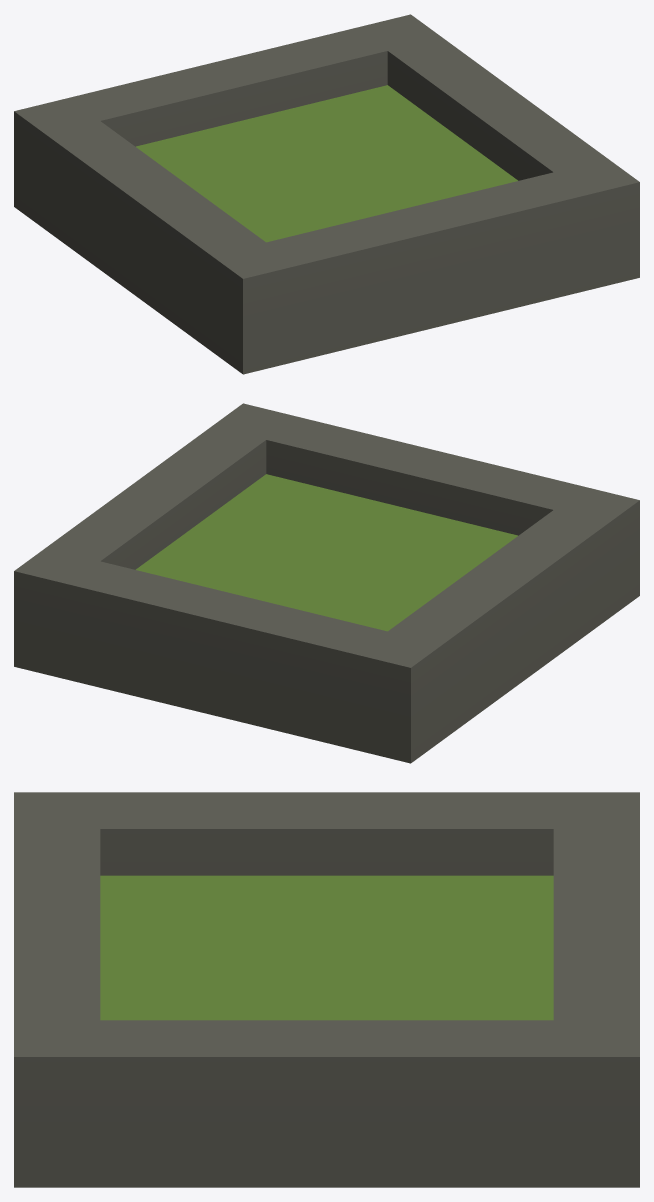
The model's file is Bed_01.fbx.
3 views of the same model, one above another, from view 1: azimuth 30°, elevation 25°; view 2: azimuth 150°, elevation 25°; view 3: azimuth 270°, elevation 25° (orthographic). The views are drawn at different scales.
Visible parts, largest first — view 1: Bed_01; view 2: Bed_01; view 3: Bed_01.
Part boxes in pixels (bbox=[...]): Bed_01: bbox=[14, 14, 639, 374]; Bed_01: bbox=[14, 403, 639, 763]; Bed_01: bbox=[14, 792, 639, 1187].
Bounding box in the file's own units: 0.6363 × 0.1465 × 0.6363.
